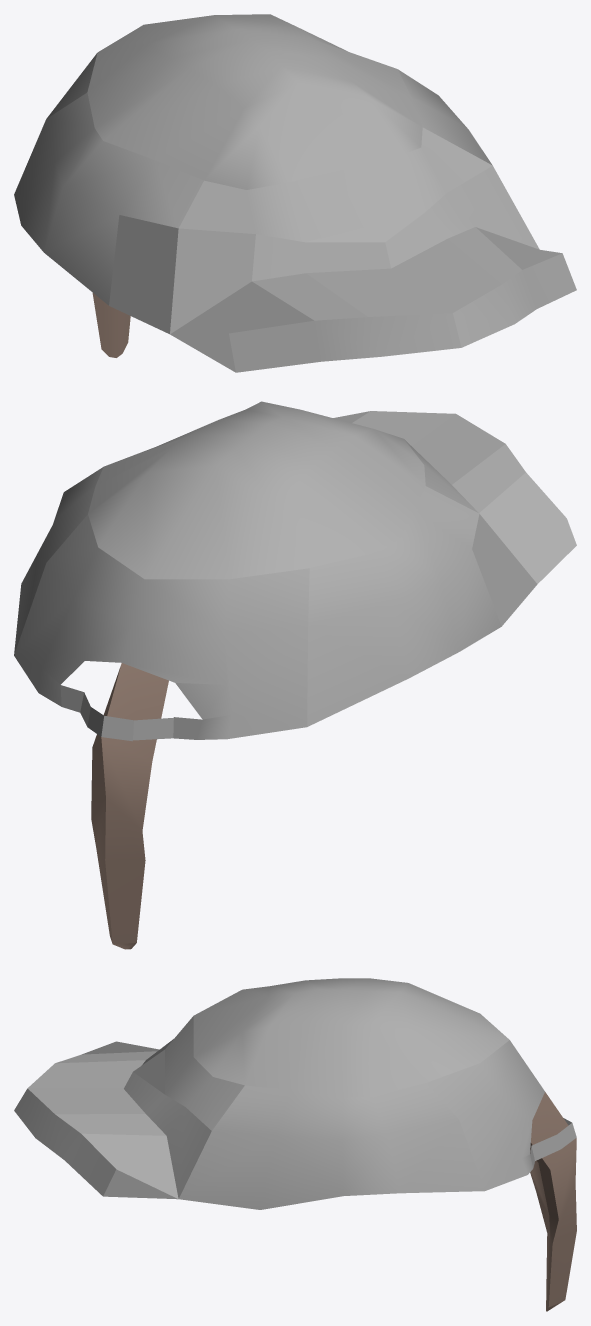
The model's file is hat 1.fbx.
The picture shows the model from 3 angles, top to bottom: view 1: azimuth 30°, elevation 25°; view 2: azimuth 150°, elevation 25°; view 3: azimuth 270°, elevation 25°; orthographic projection. The views are drawn at different scales.
Parts seen in each view (by area): view 1: pCylinder11; view 2: pCylinder11; view 3: pCylinder11.
Boxes of the visible parts, bbox=[...] form: pCylinder11: bbox=[14, 14, 576, 372]; pCylinder11: bbox=[14, 401, 576, 949]; pCylinder11: bbox=[14, 978, 576, 1311].
Size of the model in its own units: 0.3377 by 0.3237 by 0.5116.
